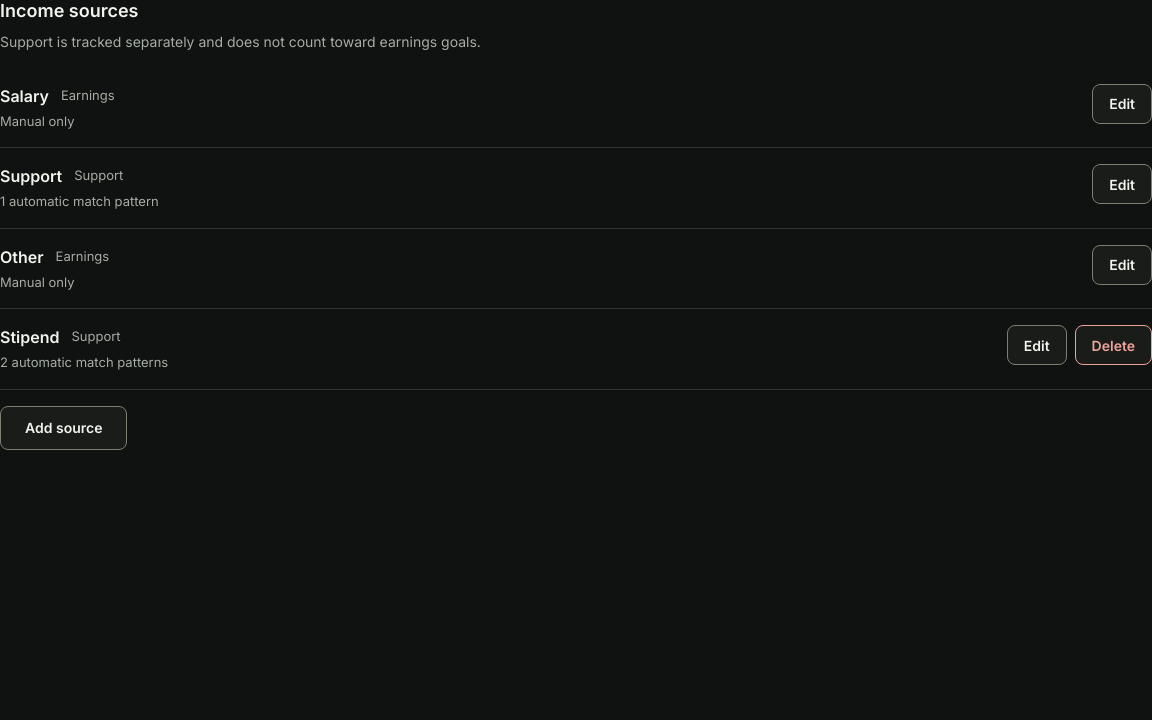
it: IncomeSourcesBlock › counts multiple stored patterns without exposing their strings in the card
This screenshot has width=1152, height=720.
Expected: the button "Add source" is shown, [0,406,128,450]
Expected: the text "2 automatic match patterns" is shown, [0,354,168,370]
Click the button with aria-label "Edit Stipend" at (1037, 345), box [1007,325,1067,365]
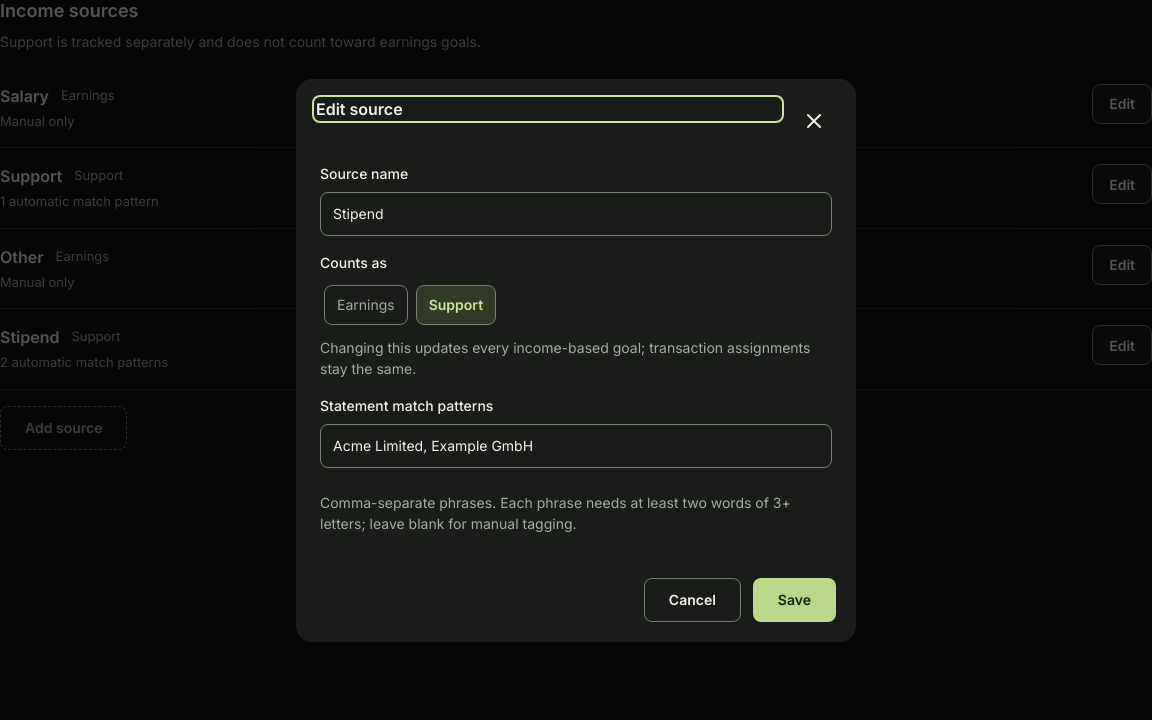
Now the dialog "Edit source" is shown, box [296,78,856,642]
Now the field labelled "Statement match patterns" holds "Acme Limited, Example GmbH", box [320,424,832,468]
